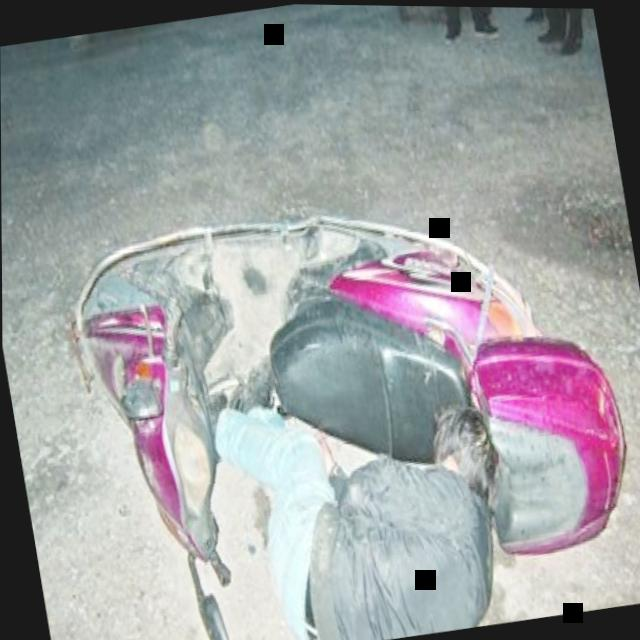Fall-Detected: (192, 322, 526, 640)
